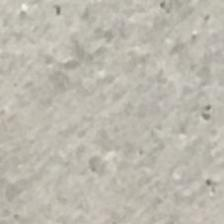Non_Crack: (7, 5, 198, 220)
